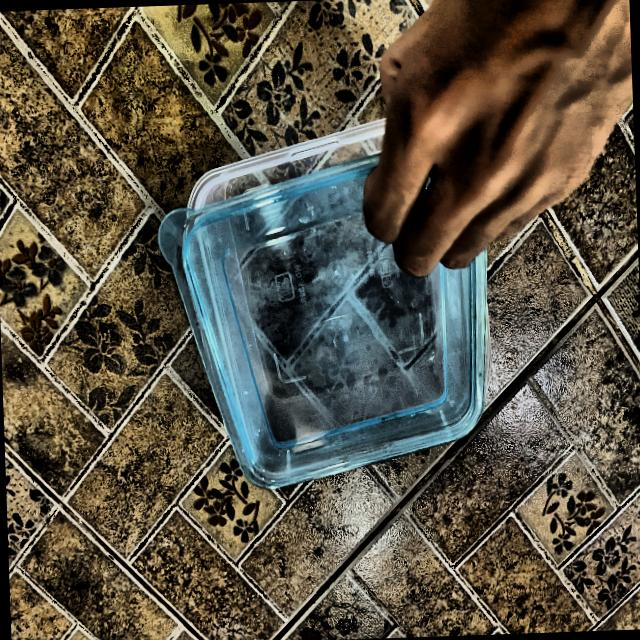plastic container: (170, 112, 531, 500)
